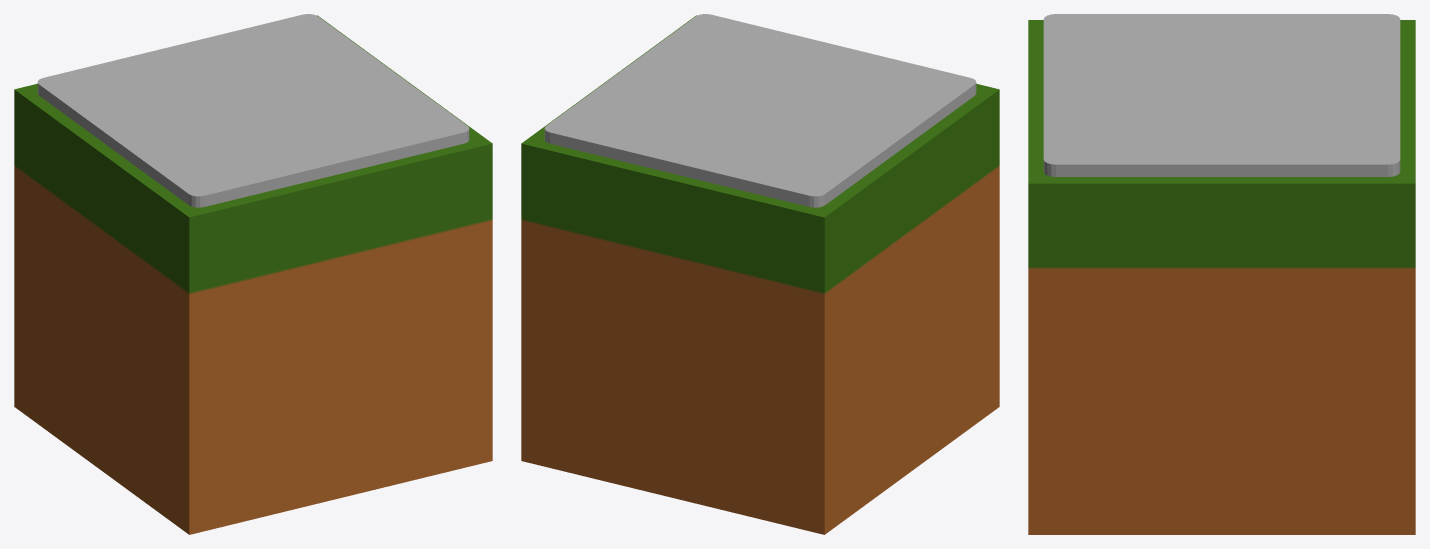
File: StartPoint.fbx
3 views of the same model, side by side, from view 1: azimuth 30°, elevation 25°; view 2: azimuth 150°, elevation 25°; view 3: azimuth 270°, elevation 25° (orthographic). The views are drawn at different scales.
Parts seen in each view (by area): view 1: StartPoint; view 2: StartPoint; view 3: StartPoint.
Boxes of the visible parts, box(x1,y1,x2,y2) form: StartPoint: box(14, 14, 492, 534); StartPoint: box(521, 14, 999, 534); StartPoint: box(1028, 14, 1415, 534).
Size of the model in its own units: 200 by 207 by 200.
